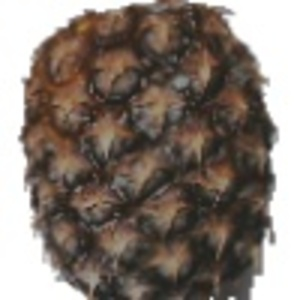abacaxi: (15, 4, 287, 297)
